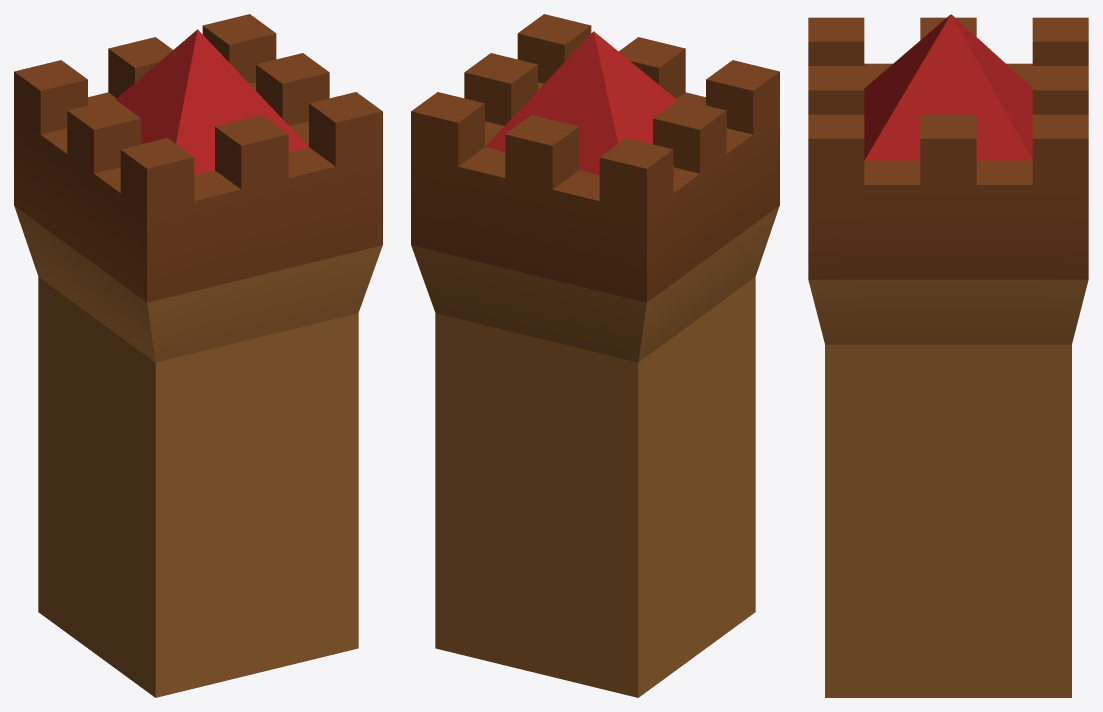
Rendered from tower_fire.obj.
3 views of the same model, side by side, from view 1: azimuth 30°, elevation 25°; view 2: azimuth 150°, elevation 25°; view 3: azimuth 270°, elevation 25° (orthographic). The views are drawn at different scales.
Parts seen in each view (by area): view 1: Tower_Fire; view 2: Tower_Fire; view 3: Tower_Fire.
Part boxes in pixels (left/top/right/bottom): Tower_Fire: left=14, top=14, right=382, bottom=697; Tower_Fire: left=411, top=14, right=779, bottom=697; Tower_Fire: left=808, top=14, right=1088, bottom=697.
Size of the model in its own units: 29.04 by 70.63 by 28.39.
